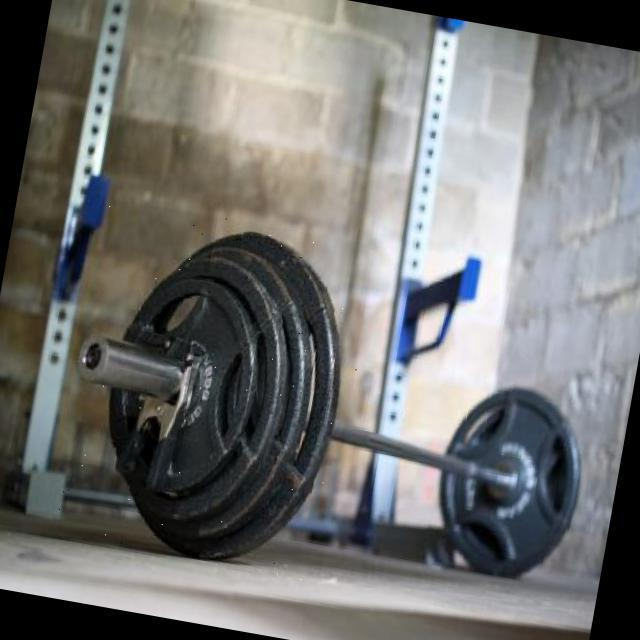barbell: (41, 197, 379, 589)
